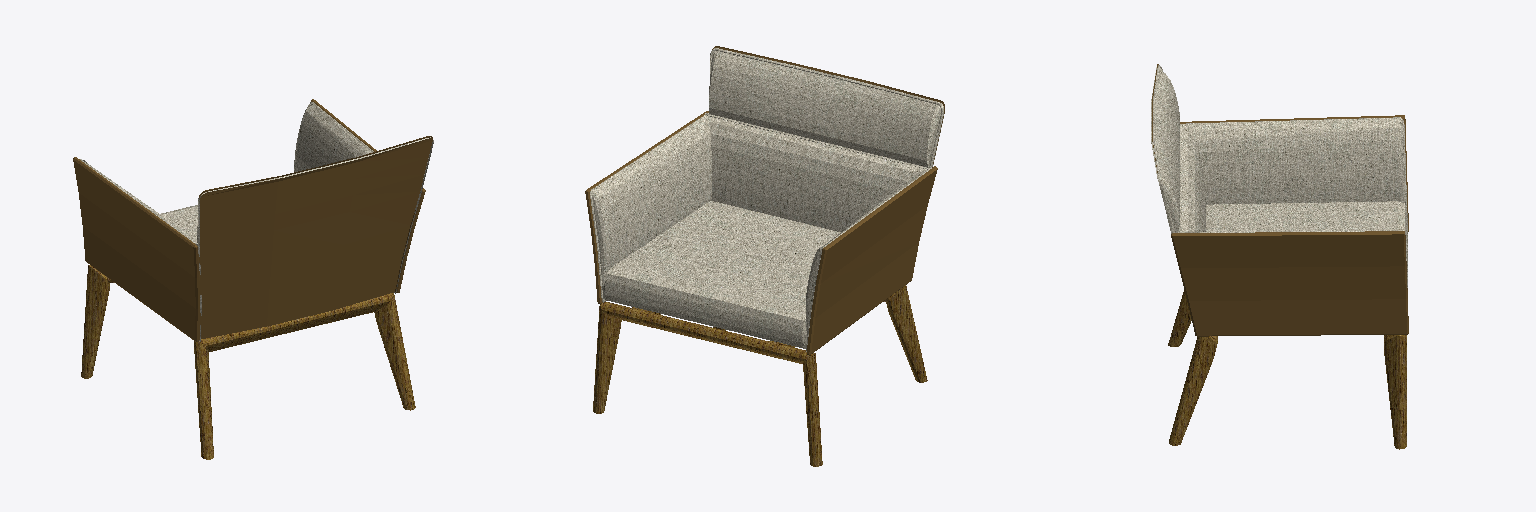
The picture shows the model from 3 angles: view 1: azimuth 30°, elevation 25°; view 2: azimuth 150°, elevation 25°; view 3: azimuth 270°, elevation 25°; orthographic projection.
Parts seen in each view (by area): view 1: mesh2_mesh2-geometry, mesh3_mesh3-geometry, mesh4_mesh4-geometry, mesh10_mesh10-geometry, mesh5_mesh5-geometry, mesh7_mesh7-geometry, mesh9_mesh9-geometry, mesh1_mesh1-geometry, mesh13_mesh13-geometry; view 2: mesh10_mesh10-geometry, mesh9_mesh9-geometry, mesh3_mesh3-geometry, mesh5_mesh5-geometry, mesh7_mesh7-geometry, mesh1_mesh1-geometry, mesh2_mesh2-geometry, mesh15_mesh15-geometry; view 3: mesh1_mesh1-geometry, mesh10_mesh10-geometry, mesh9_mesh9-geometry, mesh5_mesh5-geometry, mesh4_mesh4-geometry, mesh7_mesh7-geometry, mesh3_mesh3-geometry.
Part boxes in pixels (x1,y1,x2,y2): mesh2_mesh2-geometry: (199, 136, 432, 338); mesh3_mesh3-geometry: (73, 157, 199, 341); mesh4_mesh4-geometry: (199, 293, 415, 410); mesh10_mesh10-geometry: (81, 103, 373, 242); mesh5_mesh5-geometry: (81, 265, 113, 378); mesh7_mesh7-geometry: (194, 341, 213, 459); mesh9_mesh9-geometry: (161, 205, 197, 239); mesh1_mesh1-geometry: (311, 99, 425, 292); mesh13_mesh13-geometry: (198, 137, 433, 341); mesh10_mesh10-geometry: (590, 51, 940, 343); mesh9_mesh9-geometry: (605, 201, 840, 348); mesh3_mesh3-geometry: (807, 166, 937, 355); mesh5_mesh5-geometry: (593, 302, 822, 466); mesh7_mesh7-geometry: (886, 285, 927, 382); mesh1_mesh1-geometry: (585, 111, 708, 304); mesh2_mesh2-geometry: (712, 46, 944, 167); mesh15_mesh15-geometry: (717, 48, 938, 104); mesh1_mesh1-geometry: (1171, 231, 1408, 336); mesh10_mesh10-geometry: (1155, 68, 1405, 232); mesh9_mesh9-geometry: (1206, 201, 1407, 287); mesh5_mesh5-geometry: (1384, 335, 1406, 449); mesh4_mesh4-geometry: (1169, 336, 1217, 445); mesh7_mesh7-geometry: (1168, 290, 1191, 346); mesh3_mesh3-geometry: (1180, 115, 1408, 231).
Size of the model in its own units: 0.5737 by 0.6247 by 0.5297.
3 materials, 2 textured.